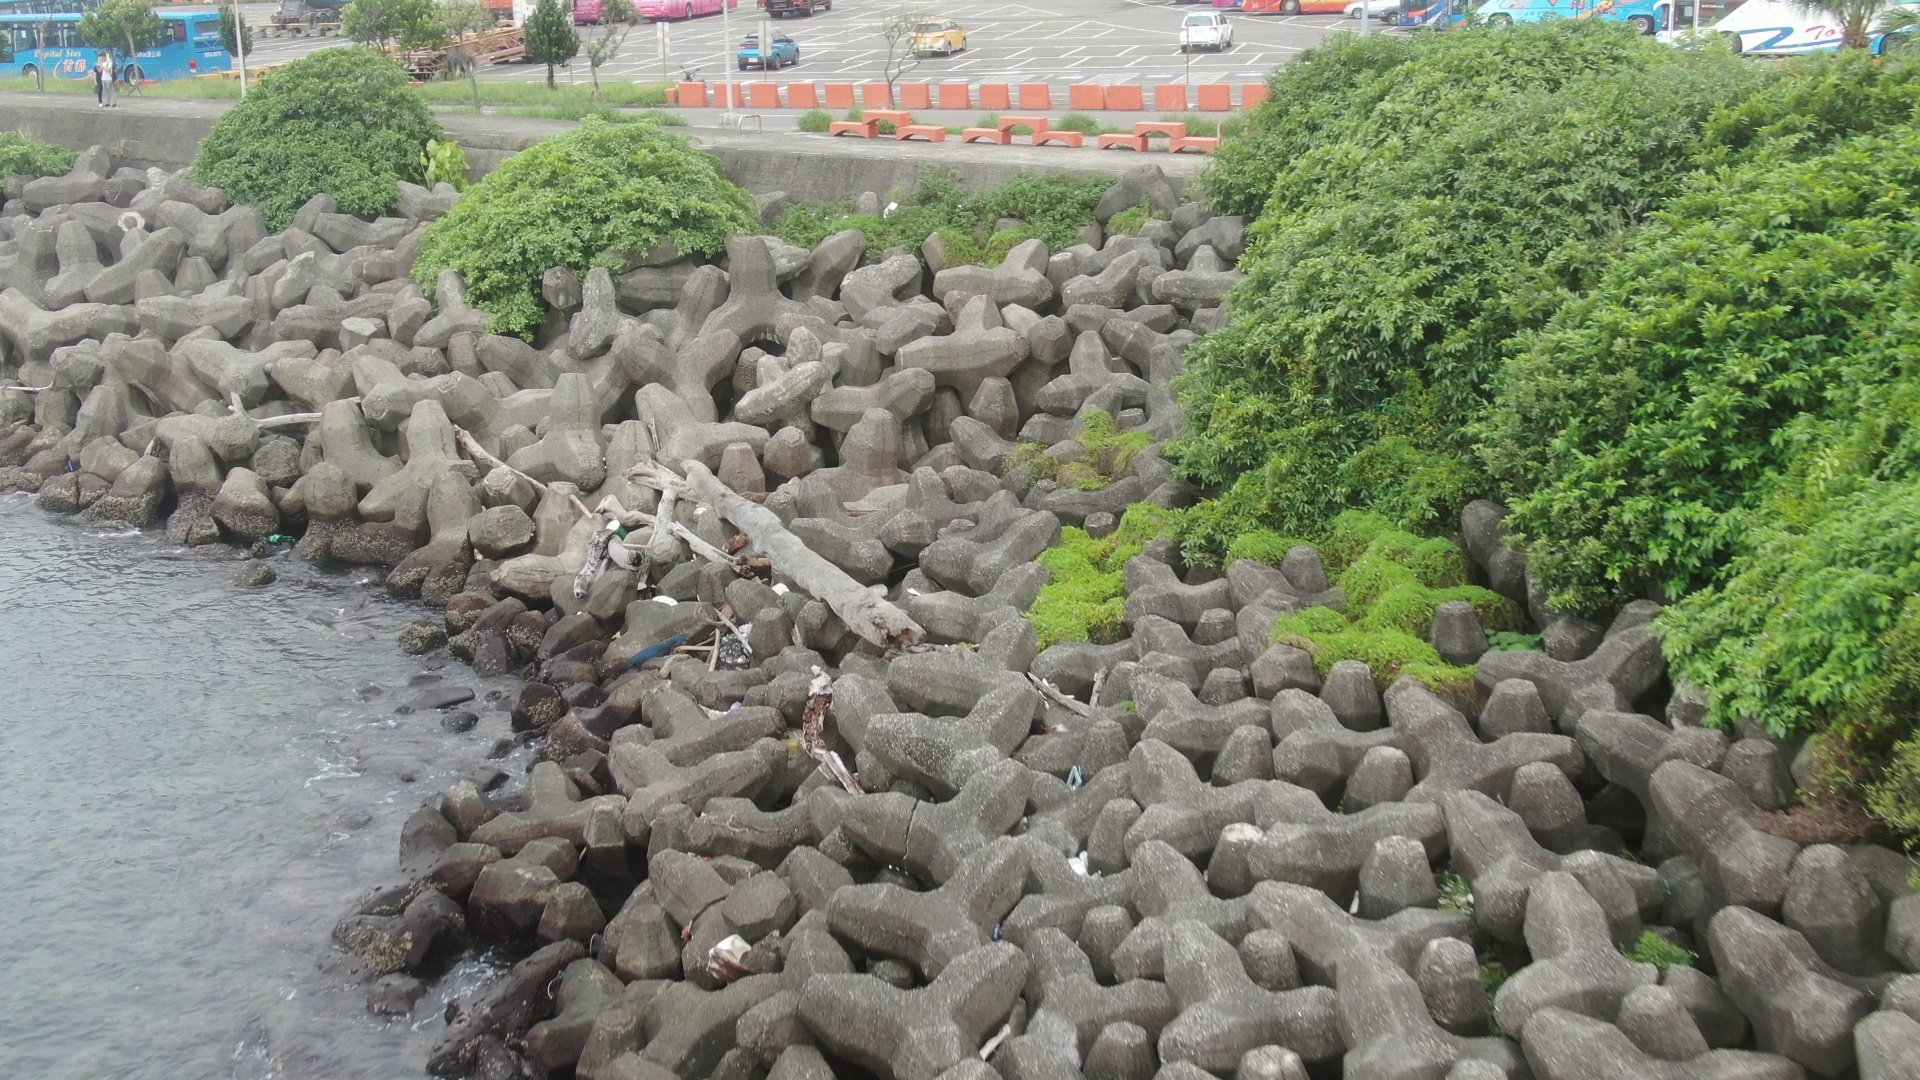garbage: (615, 622, 700, 680), (721, 607, 767, 698), (702, 935, 761, 978), (1062, 845, 1109, 895), (880, 190, 913, 224), (266, 527, 311, 553), (595, 517, 634, 545), (770, 574, 798, 603), (651, 592, 684, 613)
